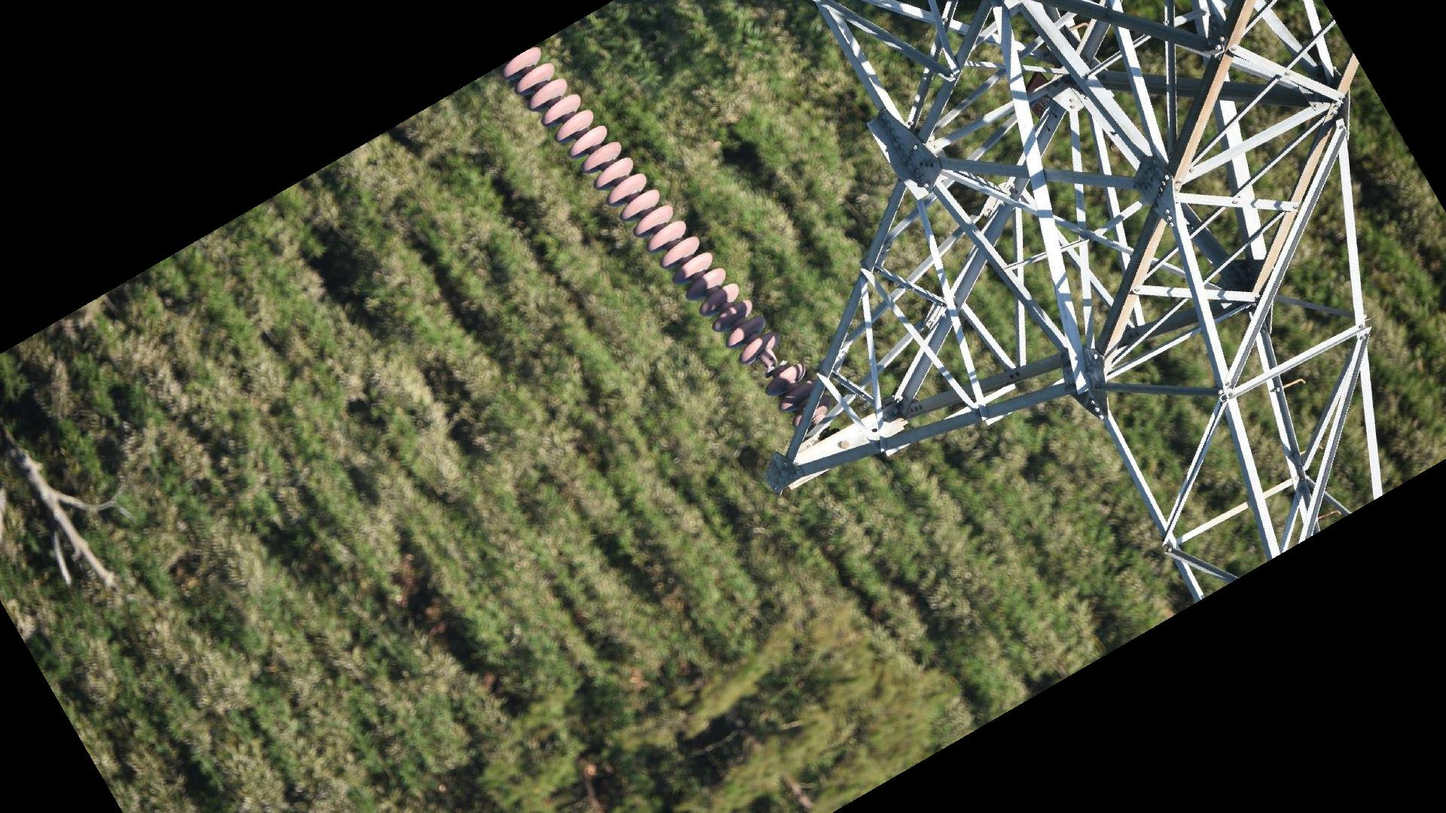insulator: (499, 41, 822, 416)
insulator_stringdrop: (737, 330, 810, 398)
